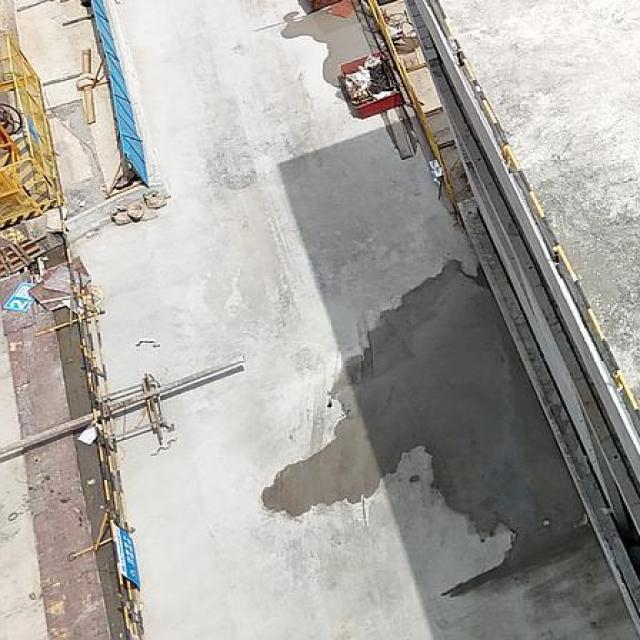edge_guardrail: (433, 0, 640, 423)
